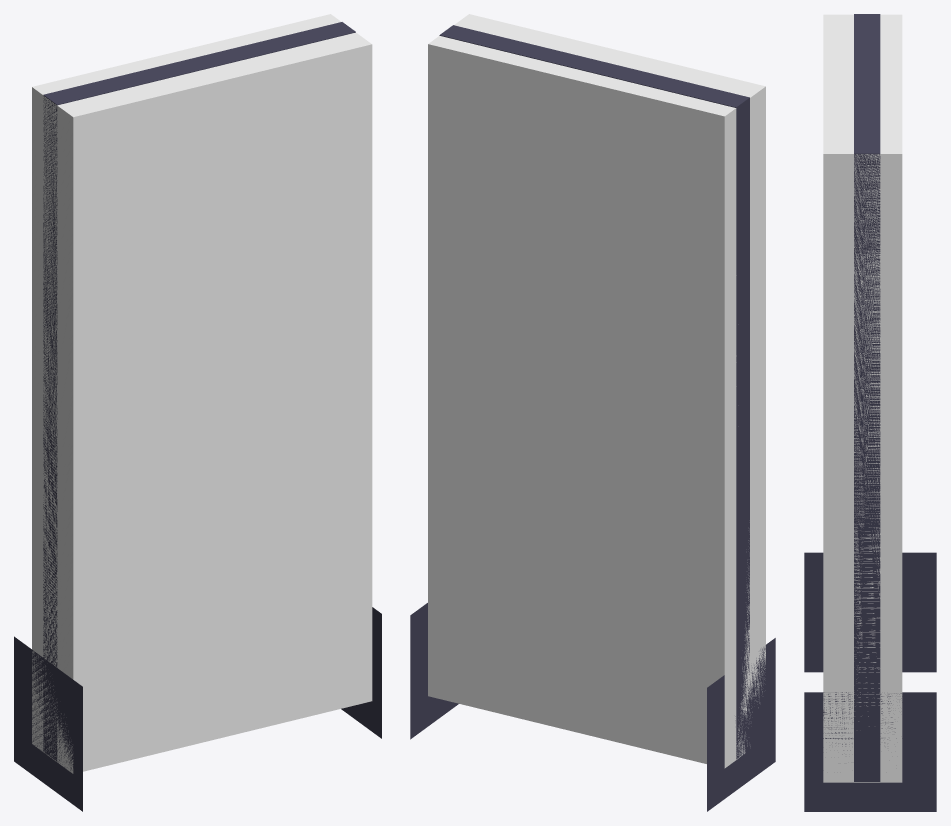
File: Puerta.fbx
3 views of the same model, side by side, from view 1: azimuth 30°, elevation 25°; view 2: azimuth 150°, elevation 25°; view 3: azimuth 270°, elevation 25° (orthographic). The views are drawn at different scales.
Visible parts, largest first — view 1: CTRL_Hole, DoorFrame, CTRL_Baseboard; view 2: CTRL_Hole, DoorFrame, CTRL_Baseboard; view 3: CTRL_Hole, DoorFrame, CTRL_Baseboard.
Part boxes in pixels (left/top/right/bottom): CTRL_Hole: left=32, top=14, right=372, bottom=773; DoorFrame: left=43, top=22, right=355, bottom=761; CTRL_Baseboard: left=14, top=607, right=381, bottom=811; CTRL_Hole: left=428, top=14, right=765, bottom=768; DoorFrame: left=439, top=25, right=749, bottom=759; CTRL_Baseboard: left=410, top=603, right=775, bottom=811; CTRL_Hole: left=823, top=14, right=902, bottom=782; DoorFrame: left=854, top=14, right=880, bottom=781; CTRL_Baseboard: left=804, top=552, right=936, bottom=811.
Bounding box in the file's own units: 100 × 220 × 40.
